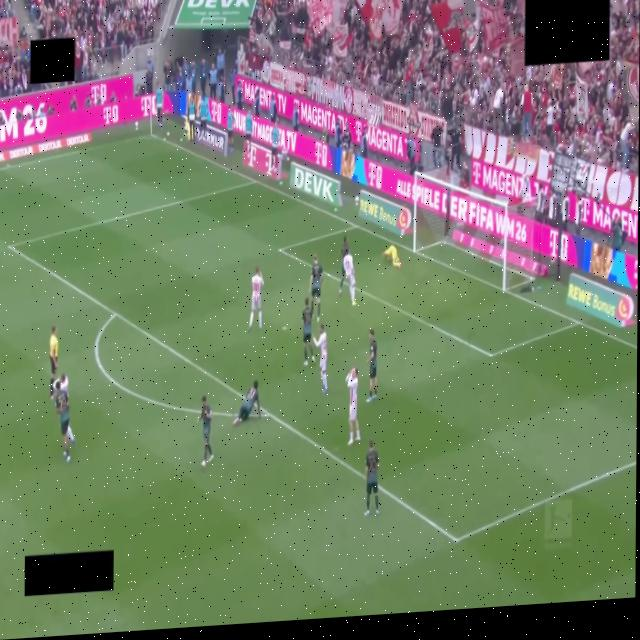player: (233, 381, 261, 425), (346, 368, 360, 445), (198, 396, 213, 467), (365, 440, 379, 515), (56, 390, 70, 462), (248, 267, 263, 332), (314, 324, 327, 393), (310, 255, 323, 322), (302, 298, 314, 365), (367, 329, 377, 401), (343, 253, 356, 305), (339, 235, 350, 295), (271, 122, 281, 172), (383, 246, 400, 268), (55, 374, 68, 393)
referee: (49, 326, 57, 398)
